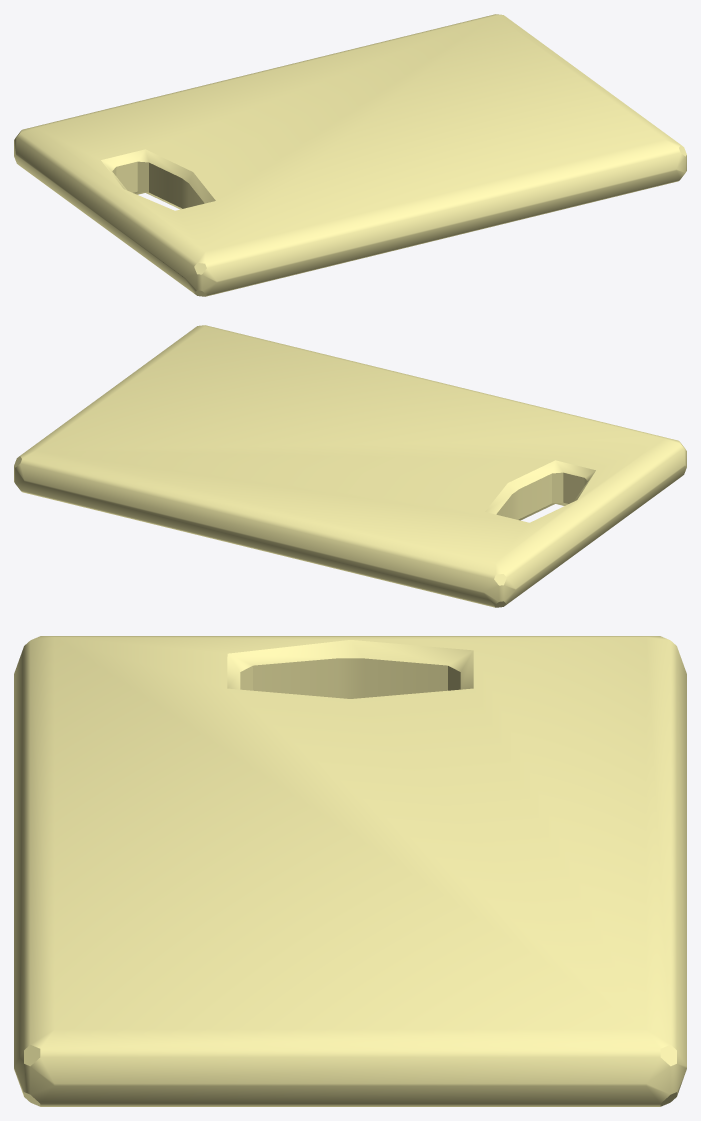
The model's file is cutting_board.FBX.
3 renders of one model, top to bottom at view 1: azimuth 30°, elevation 25°; view 2: azimuth 150°, elevation 25°; view 3: azimuth 270°, elevation 25°, orthographic. The views are drawn at different scales.
Visible parts, largest first — view 1: Box001; view 2: Box001; view 3: Box001.
Boxes of the visible parts, x1,y1,x2,y2 form: Box001: [14, 14, 686, 296]; Box001: [14, 325, 686, 607]; Box001: [14, 636, 686, 1106].
Bounding box in the file's own units: 120 × 80 × 10.
Materials: 1 (1 with a texture image).
